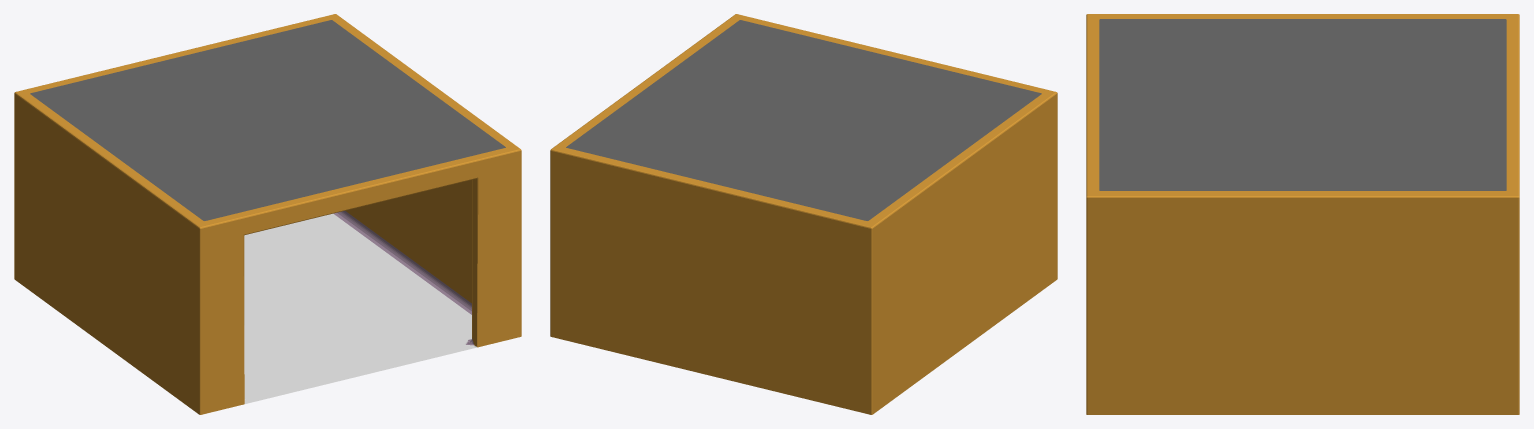
File: simpleRoom1.fbx
The picture shows the model from 3 angles, left to right: view 1: azimuth 30°, elevation 25°; view 2: azimuth 150°, elevation 25°; view 3: azimuth 270°, elevation 25°; orthographic projection. The views are drawn at different scales.
Visible parts, largest first — view 1: Plane; view 2: Plane; view 3: Plane.
Part boxes in pixels (x1,y1,x2,y2): Plane: [14, 14, 521, 414]; Plane: [550, 14, 1057, 414]; Plane: [1086, 14, 1519, 414].
Size of the model in its own units: 9 by 5.01 by 9.
